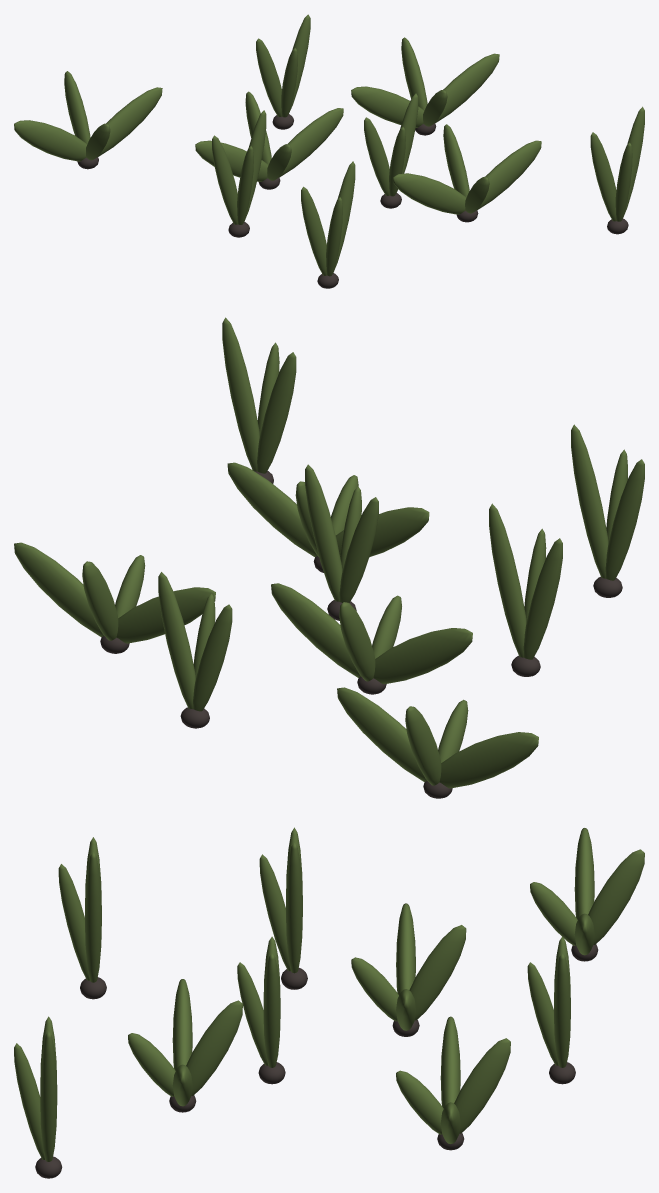
The model's file is CMU3DRMCGrassa3.glb.
3 views of the same model, one above another, from view 1: azimuth 30°, elevation 25°; view 2: azimuth 150°, elevation 25°; view 3: azimuth 270°, elevation 25° (orthographic). The views are drawn at different scales.
Parts seen in each view (by area): view 1: tuft 7 continuous leaf 0, tuft 0 continuous leaf 0, tuft 1 continuous leaf 0, tuft 0 continuous leaf 1, tuft 7 continuous leaf 1, tuft 1 continuous leaf 1, tuft 6 continuous leaf 1, tuft 4 continuous leaf 0, tuft 8 continuous leaf 0, tuft 2 continuous leaf 0, tuft 3 continuous leaf 0, tuft 5 continuous leaf 0 (+19 smaller); view 2: tuft 0 continuous leaf 0, tuft 6 continuous leaf 0, tuft 1 continuous leaf 1, tuft 6 continuous leaf 1, tuft 7 continuous leaf 1, tuft 0 continuous leaf 1, tuft 4 continuous leaf 1, tuft 8 continuous leaf 1, tuft 2 continuous leaf 1, tuft 1 continuous leaf 0, tuft 5 continuous leaf 1, tuft 3 continuous leaf 1 (+18 smaller); view 3: tuft 7 continuous leaf 2, tuft 0 continuous leaf 2, tuft 1 continuous leaf 2, tuft 6 continuous leaf 2, tuft 4 continuous leaf 1, tuft 2 continuous leaf 1, tuft 8 continuous leaf 1, tuft 3 continuous leaf 1, tuft 5 continuous leaf 1, tuft 4 continuous leaf 2, tuft 8 continuous leaf 2, tuft 2 continuous leaf 2 (+14 smaller).
Part boxes in pixels (<box>): tuft 7 continuous leaf 0: <box>393,173,466,214</box>; tuft 0 continuous leaf 0: <box>14,120,86,161</box>; tuft 1 continuous leaf 0: <box>351,86,424,127</box>; tuft 0 continuous leaf 1: <box>97,87,162,156</box>; tuft 7 continuous leaf 1: <box>477,140,541,210</box>; tuft 1 continuous leaf 1: <box>435,53,499,123</box>; tuft 6 continuous leaf 1: <box>279,108,343,177</box>; tuft 4 continuous leaf 0: <box>590,132,616,221</box>; tuft 8 continuous leaf 0: <box>301,186,326,275</box>; tuft 2 continuous leaf 0: <box>212,135,237,224</box>; tuft 3 continuous leaf 0: <box>364,117,389,195</box>; tuft 5 continuous leaf 0: <box>256,38,281,116</box>; tuft 0 continuous leaf 0: <box>439,732,538,788</box>; tuft 6 continuous leaf 0: <box>373,628,472,684</box>; tuft 1 continuous leaf 1: <box>14,542,103,637</box>; tuft 6 continuous leaf 1: <box>271,583,360,677</box>; tuft 7 continuous leaf 1: <box>227,462,317,556</box>; tuft 0 continuous leaf 1: <box>337,687,426,781</box>; tuft 4 continuous leaf 1: <box>222,317,259,471</box>; tuft 8 continuous leaf 1: <box>571,424,608,578</box>; tuft 2 continuous leaf 1: <box>489,503,526,657</box>; tuft 1 continuous leaf 0: <box>116,587,215,643</box>; tuft 5 continuous leaf 1: <box>158,572,195,708</box>; tuft 3 continuous leaf 1: <box>305,464,342,601</box>; tuft 7 continuous leaf 2: <box>186,1000,242,1095</box>; tuft 0 continuous leaf 2: <box>588,849,644,944</box>; tuft 1 continuous leaf 2: <box>454,1038,510,1133</box>; tuft 6 continuous leaf 2: <box>409,925,466,1020</box>; tuft 4 continuous leaf 1: <box>40,1031,57,1161</box>; tuft 2 continuous leaf 1: <box>286,842,302,973</box>; tuft 8 continuous leaf 1: <box>85,852,101,982</box>; tuft 3 continuous leaf 1: <box>263,953,280,1067</box>; tuft 5 continuous leaf 1: <box>554,953,570,1067</box>; tuft 4 continuous leaf 2: <box>14,1043,44,1159</box>; tuft 8 continuous leaf 2: <box>58,864,89,980</box>; tuft 2 continuous leaf 2: <box>259,854,290,971</box>.
Size of the model in its own units: 0.9481 by 0.2506 by 0.8829.
